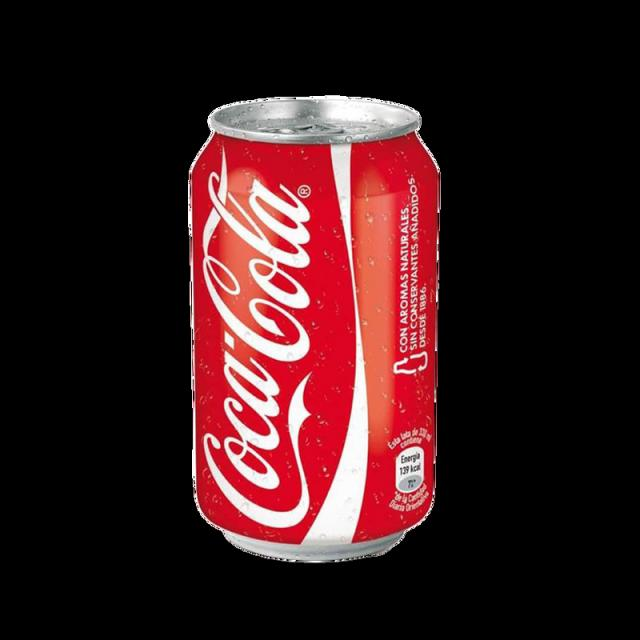cocacola: (186, 105, 433, 563)
